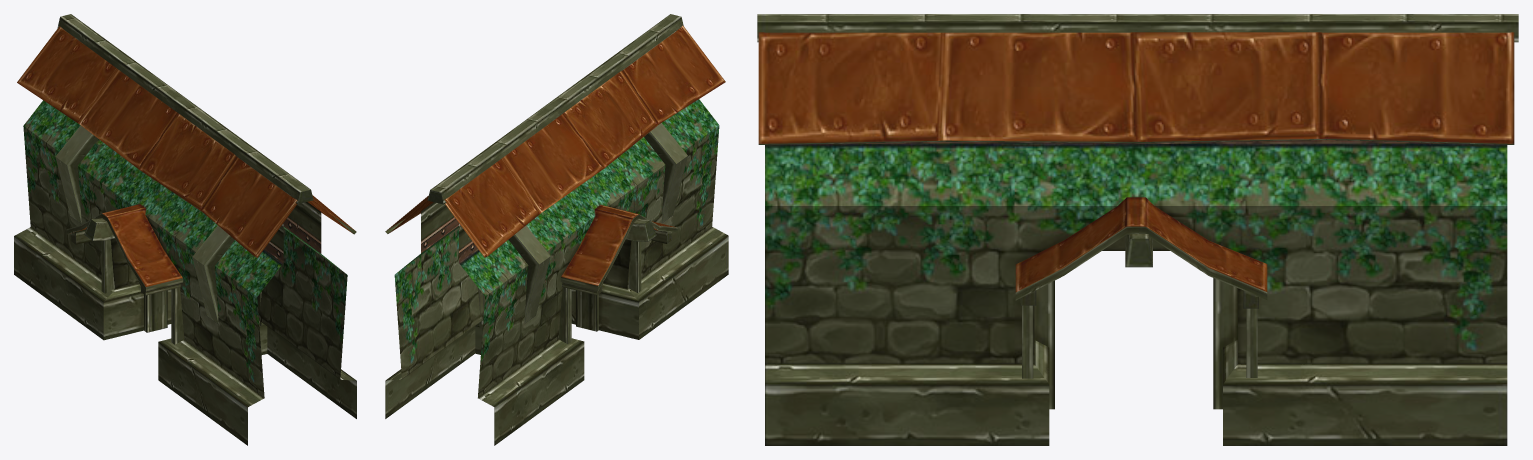
File: gate_wall.obj
The picture shows the model from 3 angles, left to right: view 1: azimuth 30°, elevation 25°; view 2: azimuth 150°, elevation 25°; view 3: azimuth 270°, elevation 25°; orthographic projection. The views are drawn at different scales.
Size of the model in its own units: 7.41 by 9.05 by 16.17.
1 material, 1 textured.
